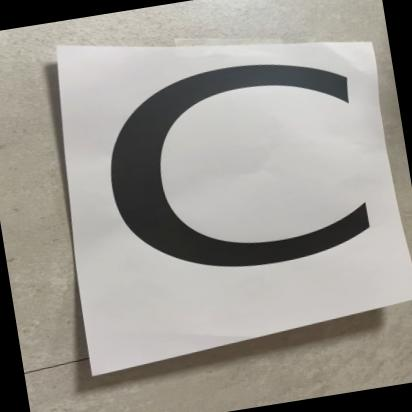seat: (47, 0, 412, 389)
